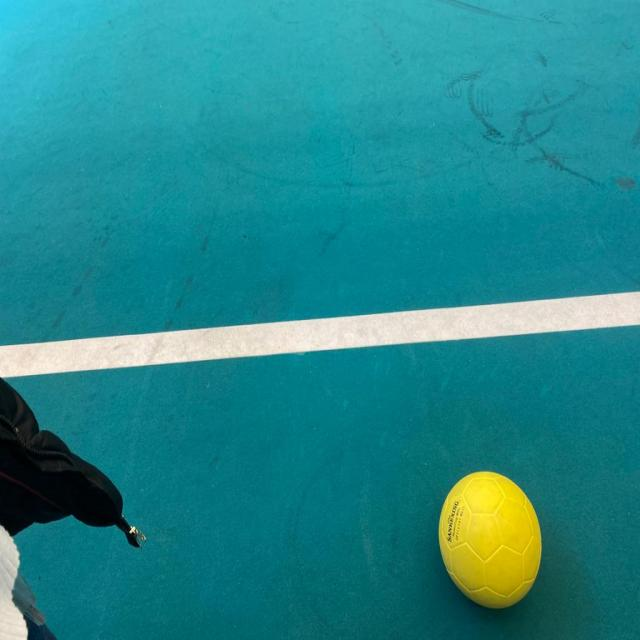ball: (429, 456, 546, 620)
